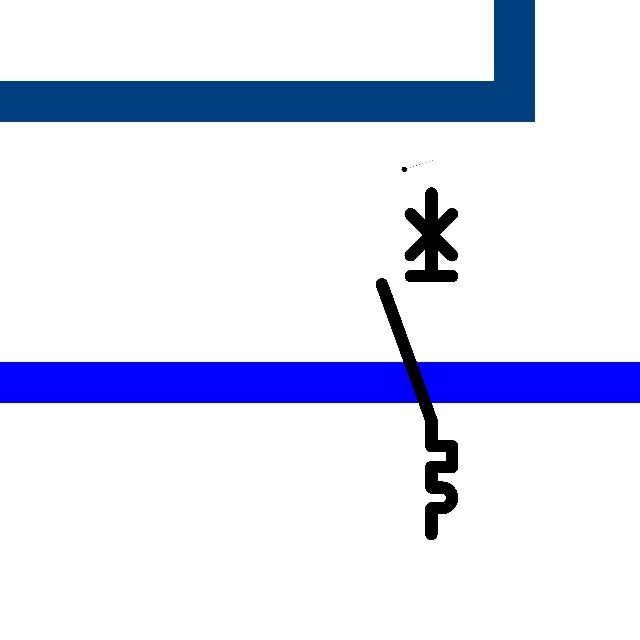interruptor_termomagnetico: (373, 184, 461, 543)
